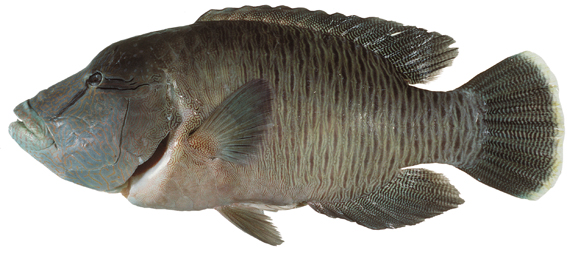fish: (8, 6, 564, 245)
